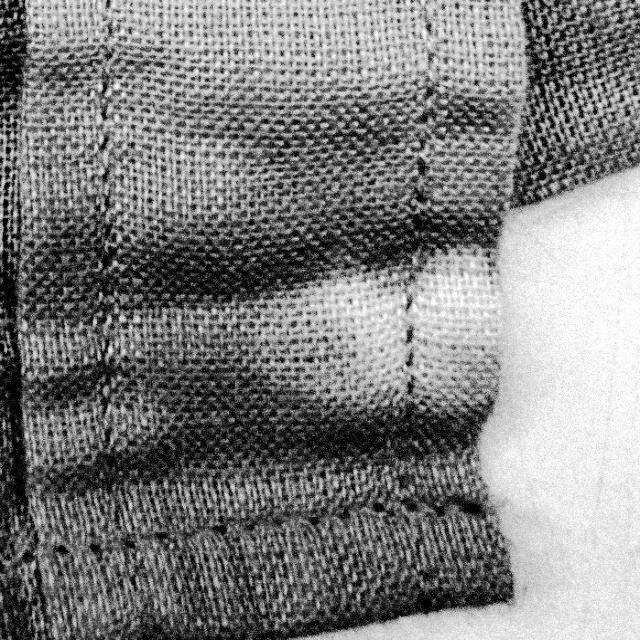Color_defect: (292, 250, 502, 424)
